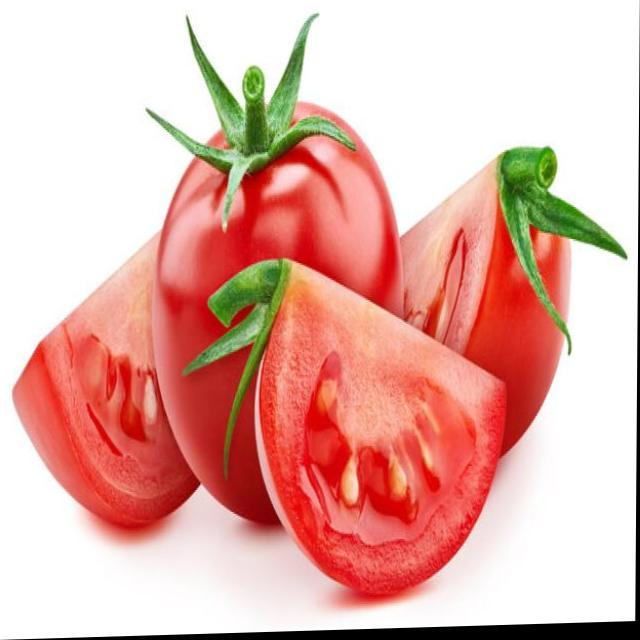kirmizi: (113, 125, 463, 511)
